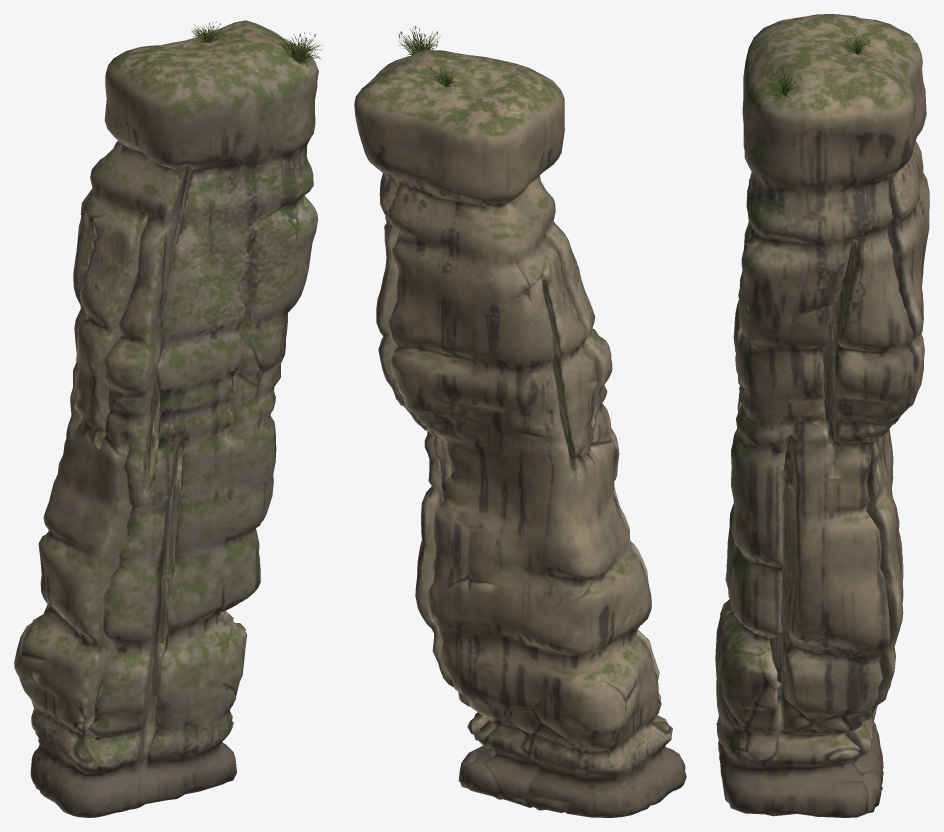
The model's file is skala_naklonena.glb.
3 views of the same model, side by side, from view 1: azimuth 30°, elevation 25°; view 2: azimuth 150°, elevation 25°; view 3: azimuth 270°, elevation 25° (orthographic). The views are drawn at different scales.
Visible parts, largest first — view 1: skala_naklonena, trava_vysoka_2.001; view 2: skala_naklonena; view 3: skala_naklonena, trava_vysoka_2.001, trava_vysoka_2.
Part boxes in pixels (bbox=[...]): skala_naklonena: bbox=[14, 20, 318, 817]; trava_vysoka_2.001: bbox=[274, 32, 323, 66]; skala_naklonena: bbox=[354, 49, 686, 817]; skala_naklonena: bbox=[715, 14, 929, 817]; trava_vysoka_2.001: bbox=[761, 62, 802, 99]; trava_vysoka_2: bbox=[841, 30, 869, 56].
Size of the model in its own units: 7.56 by 18.85 by 4.59.
6 materials, 6 textured.
